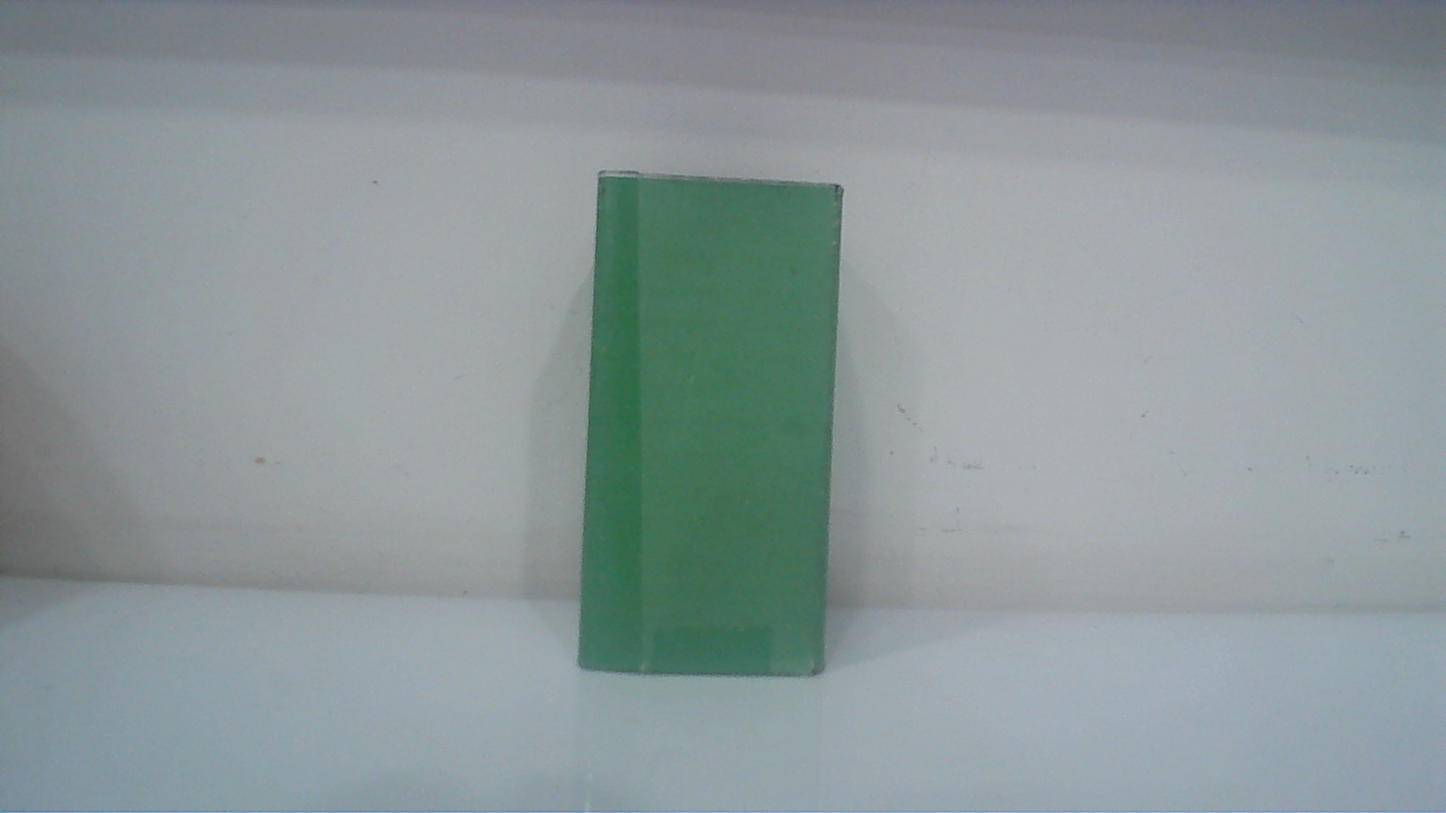green: (575, 145, 838, 699)
